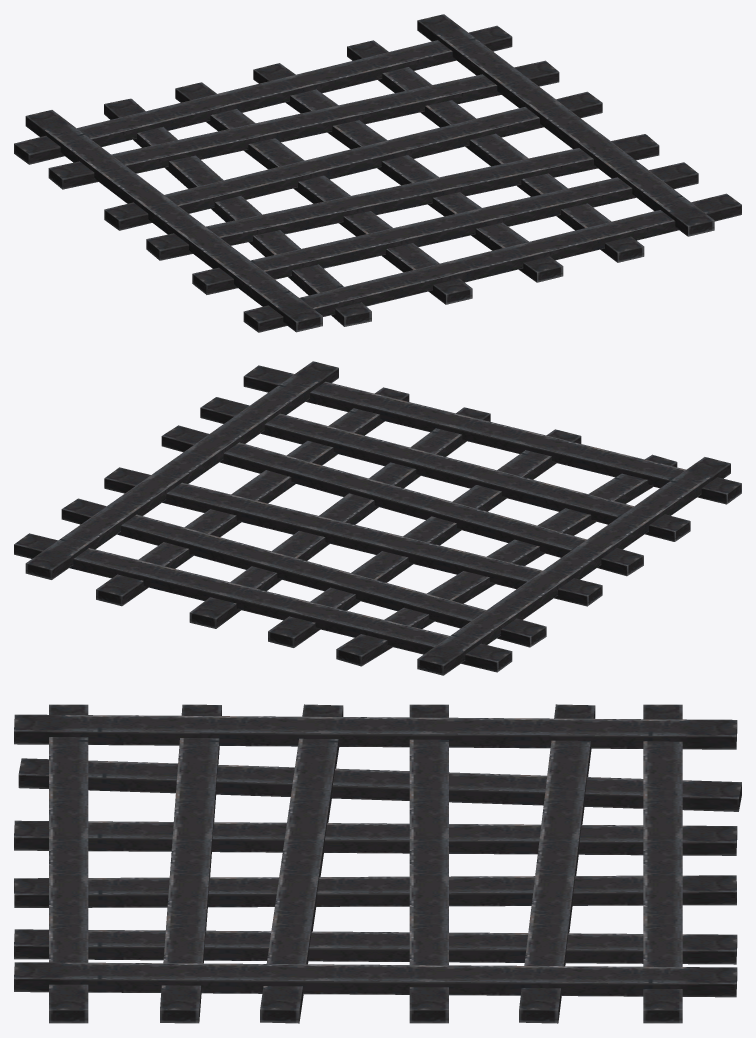
Rendered from 10504_IronRail07.FBX.
3 views of the same model, one above another, from view 1: azimuth 30°, elevation 25°; view 2: azimuth 150°, elevation 25°; view 3: azimuth 270°, elevation 25° (orthographic). The views are drawn at different scales.
Visible parts, largest first — view 1: 10504_IronRail07; view 2: 10504_IronRail07; view 3: 10504_IronRail07.
Part boxes in pixels (x1,y1,x2,y2): 10504_IronRail07: [14, 14, 741, 332]; 10504_IronRail07: [14, 361, 741, 675]; 10504_IronRail07: [14, 704, 741, 1023].
Bounding box in the file's own units: 536 × 20.33 × 540.
